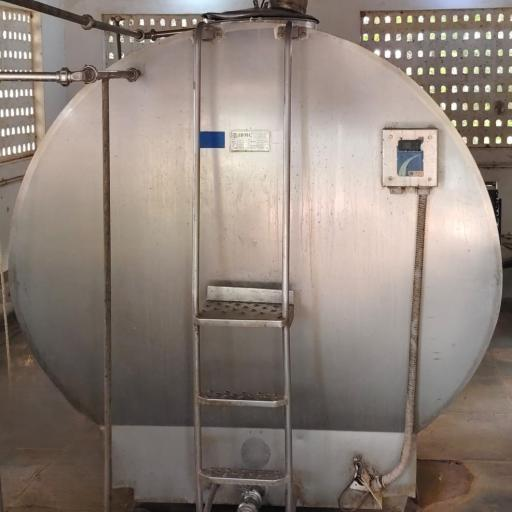silo: (2, 2, 505, 505)
